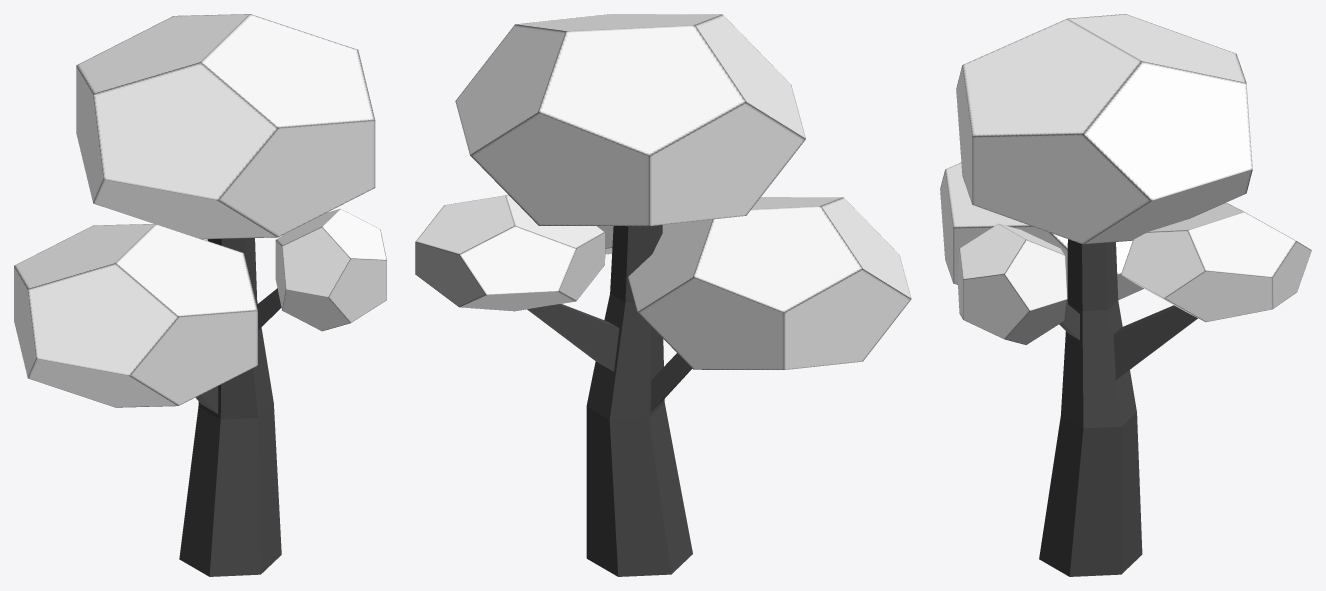
The model's file is Tree-05.fbx.
The picture shows the model from 3 angles, left to right: view 1: azimuth 30°, elevation 25°; view 2: azimuth 150°, elevation 25°; view 3: azimuth 270°, elevation 25°; orthographic projection. The views are drawn at different scales.
Visible parts, largest first — view 1: Tree_05; view 2: Tree_05; view 3: Tree_05.
Boxes of the visible parts, bbox=[...] form: Tree_05: bbox=[14, 14, 386, 576]; Tree_05: bbox=[415, 14, 911, 576]; Tree_05: bbox=[940, 14, 1311, 576].
Size of the model in its own units: 3.39 by 4.43 by 2.88.
